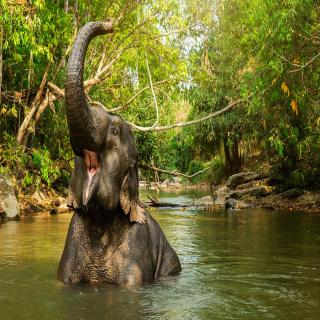Elephant: (52, 16, 184, 295)
